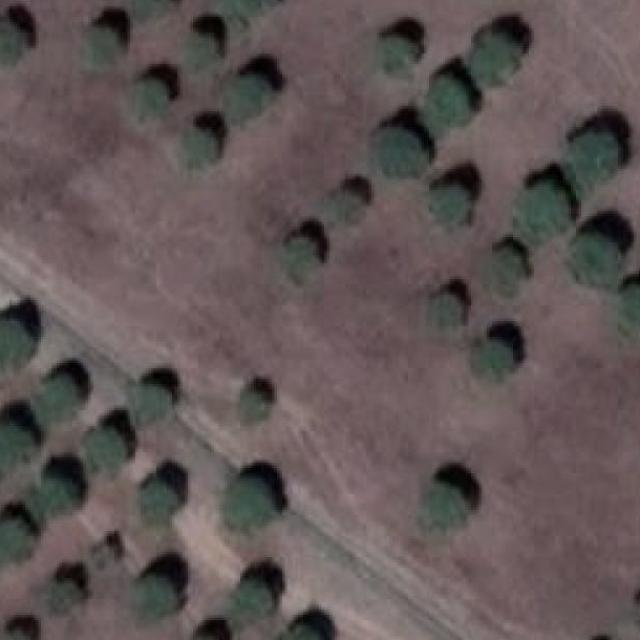Tree: (571, 132, 618, 193), (520, 185, 568, 240), (373, 127, 426, 174), (426, 75, 471, 130), (226, 478, 272, 531), (34, 377, 80, 424), (573, 235, 618, 282), (473, 32, 515, 80), (424, 484, 464, 534), (83, 426, 125, 473), (226, 75, 266, 122), (27, 482, 74, 518), (473, 342, 513, 384), (0, 320, 31, 371), (0, 423, 34, 468), (136, 578, 176, 615), (143, 484, 179, 524), (489, 250, 523, 292), (130, 387, 170, 422), (431, 188, 468, 222), (135, 80, 167, 116), (185, 132, 216, 169), (0, 520, 31, 557), (284, 237, 316, 272), (431, 295, 463, 329), (324, 196, 361, 222), (620, 284, 640, 332), (46, 580, 78, 610), (88, 31, 114, 67), (240, 580, 270, 610), (384, 36, 413, 67), (185, 36, 214, 67), (225, 0, 277, 17), (0, 21, 23, 56), (242, 392, 266, 418), (134, 0, 169, 17), (283, 630, 319, 640), (3, 630, 27, 640), (96, 545, 111, 560)
